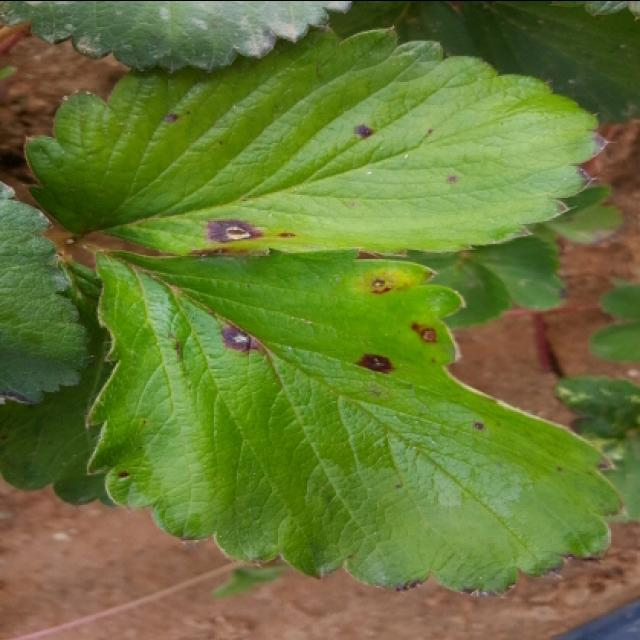Leaf Spot: (86, 245, 624, 594), (22, 23, 614, 256)
